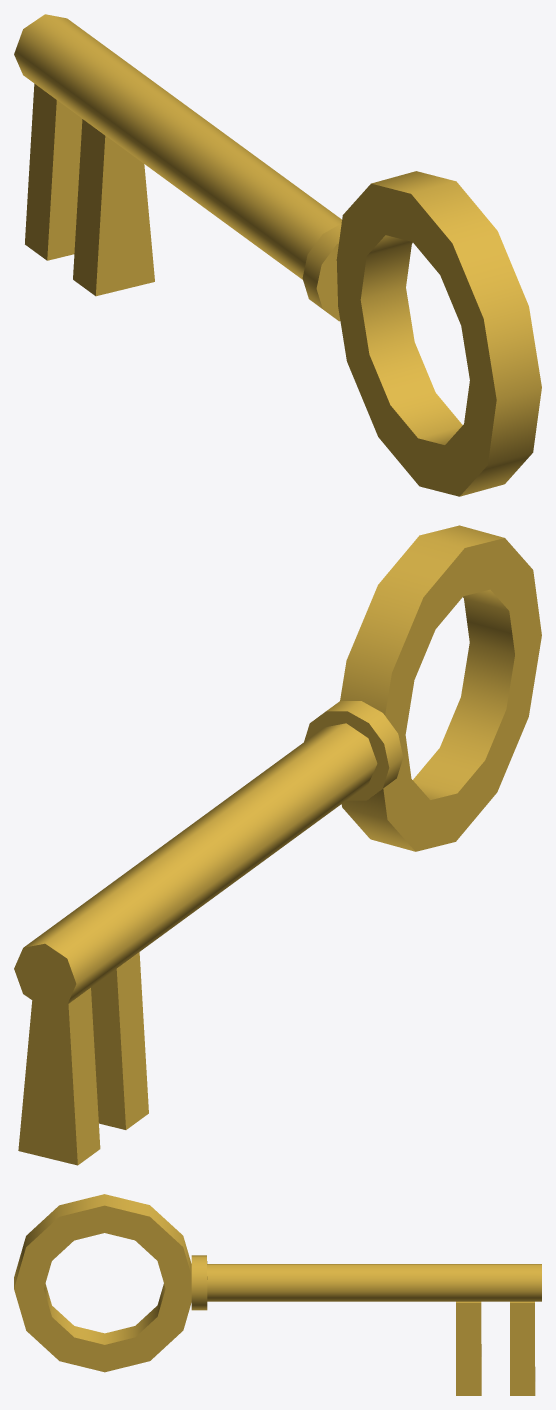
File: Key (2).fbx
3 views of the same model, one above another, from view 1: azimuth 30°, elevation 25°; view 2: azimuth 150°, elevation 25°; view 3: azimuth 270°, elevation 25° (orthographic). The views are drawn at different scales.
Visible parts, largest first — view 1: Key.001; view 2: Key.001; view 3: Key.001.
Part boxes in pixels (<box>): Key.001: <box>14,14,541,496</box>; Key.001: <box>14,525,541,1165</box>; Key.001: <box>14,1194,541,1395</box>.
Bounding box in the file's own units: 1.38 × 5.16 × 13.23.
